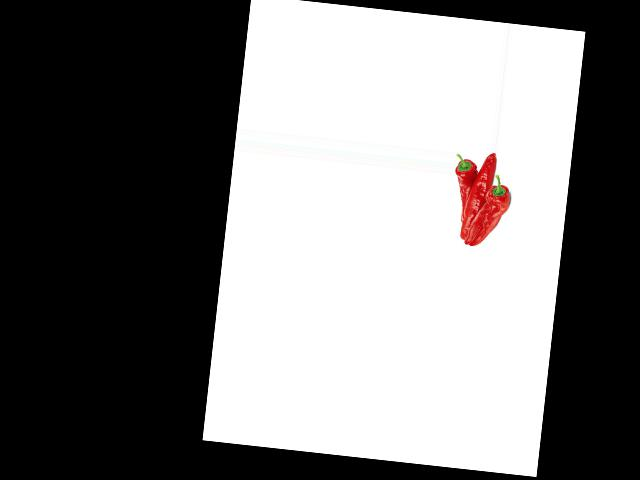bell_pepper: (472, 171, 515, 250)
